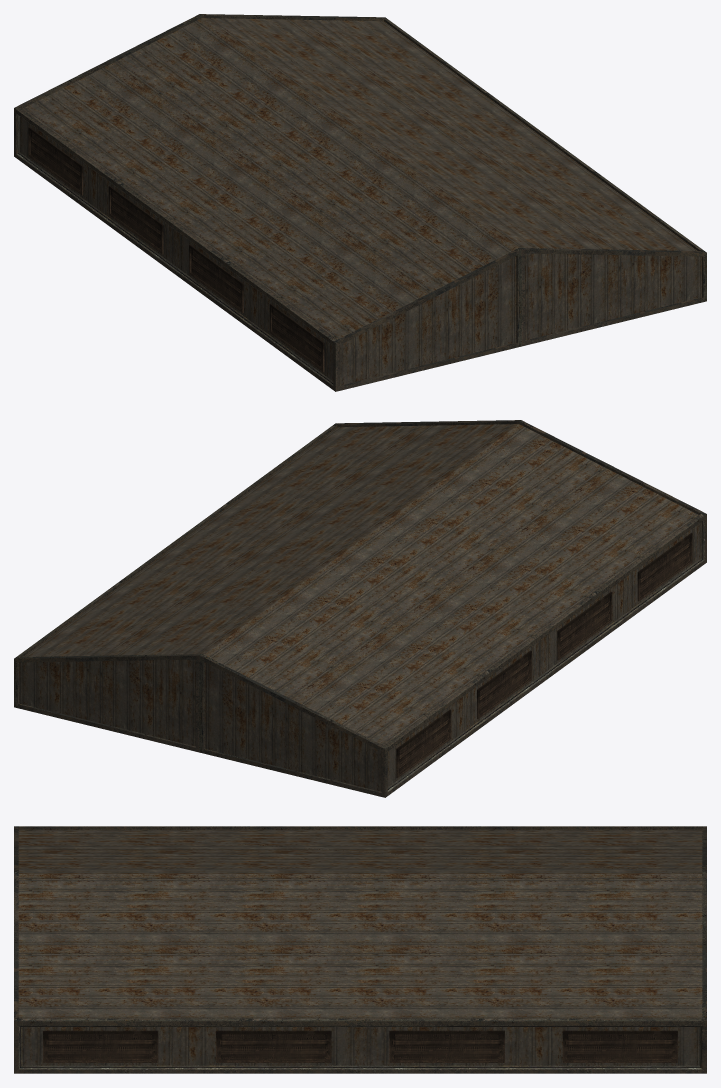
Rendered from roof_mh_4_b_3.glb.
3 views of the same model, one above another, from view 1: azimuth 30°, elevation 25°; view 2: azimuth 150°, elevation 25°; view 3: azimuth 270°, elevation 25° (orthographic). The views are drawn at different scales.
Visible parts, largest first — view 1: roof_mh_4_b_3; view 2: roof_mh_4_b_3; view 3: roof_mh_4_b_3.
Part boxes in pixels (left/top/right/bottom): roof_mh_4_b_3: left=14, top=14, right=706, bottom=391; roof_mh_4_b_3: left=14, top=420, right=706, bottom=797; roof_mh_4_b_3: left=14, top=826, right=706, bottom=1073.
Size of the model in its own units: 8 by 2 by 12.
6 materials, 6 textured.
